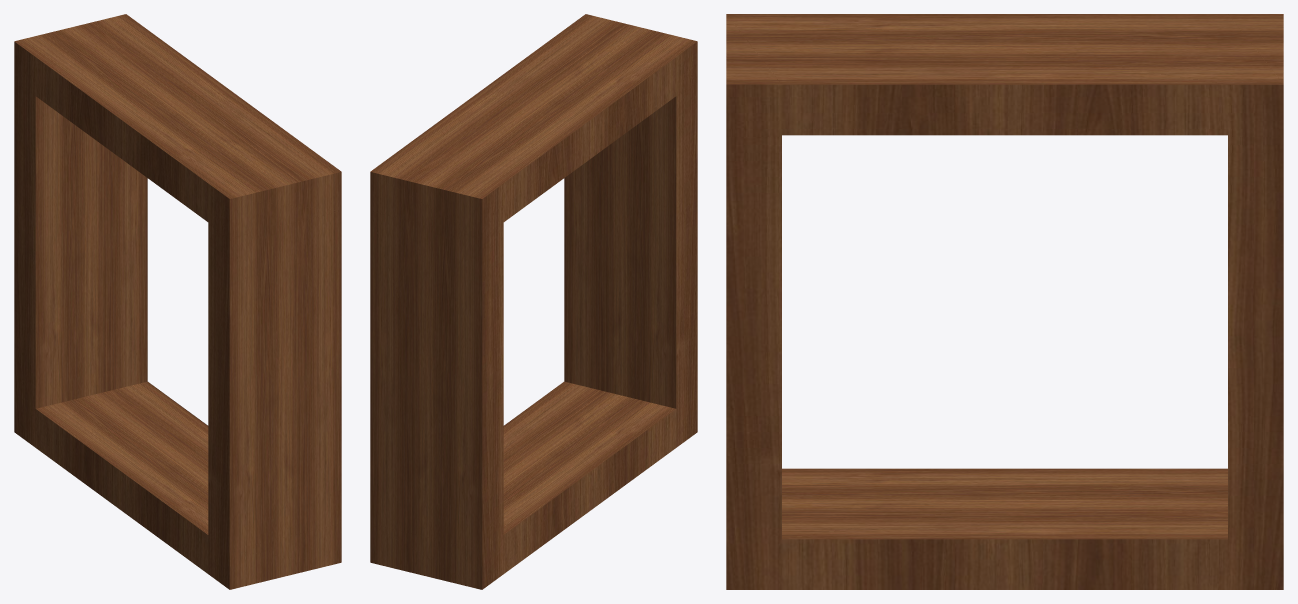
The model's file is CuboSalaEntretenimiento 1.fbx.
3 renders of one model, left to right at view 1: azimuth 30°, elevation 25°; view 2: azimuth 150°, elevation 25°; view 3: azimuth 270°, elevation 25°, orthographic. The views are drawn at different scales.
Parts seen in each view (by area): view 1: Cubo; view 2: Cubo; view 3: Cubo.
Boxes of the visible parts, bbox=[...] form: Cubo: bbox=[14, 14, 341, 589]; Cubo: bbox=[370, 14, 697, 589]; Cubo: bbox=[726, 14, 1283, 589].
Size of the model in its own units: 15 by 50 by 50.
